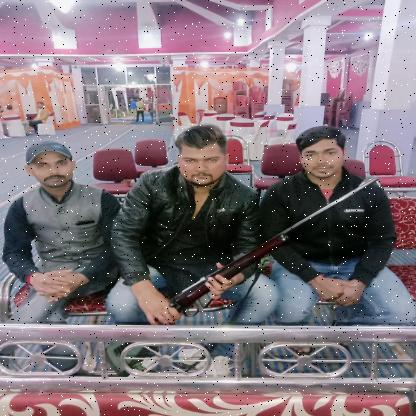rifle: (148, 171, 390, 325)
